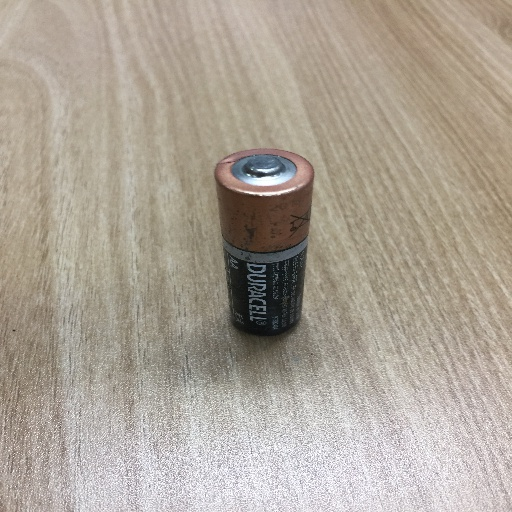Battery_0: (211, 140, 331, 346)
